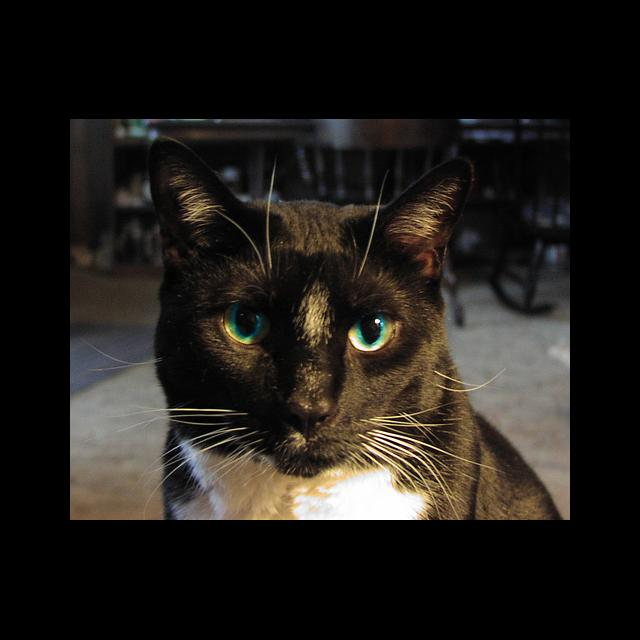animals: (163, 138, 466, 432)
